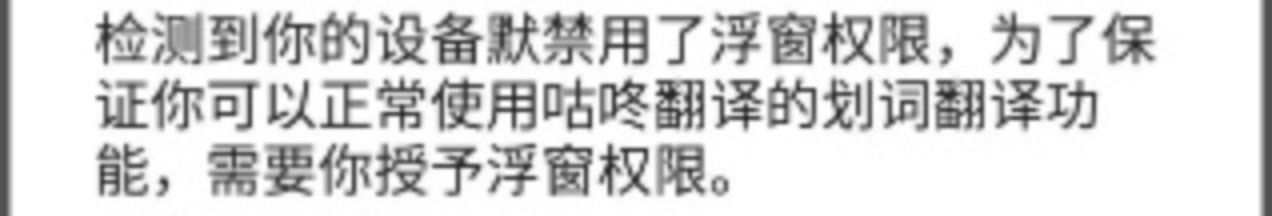TextView: (1, 1, 1271, 215)
